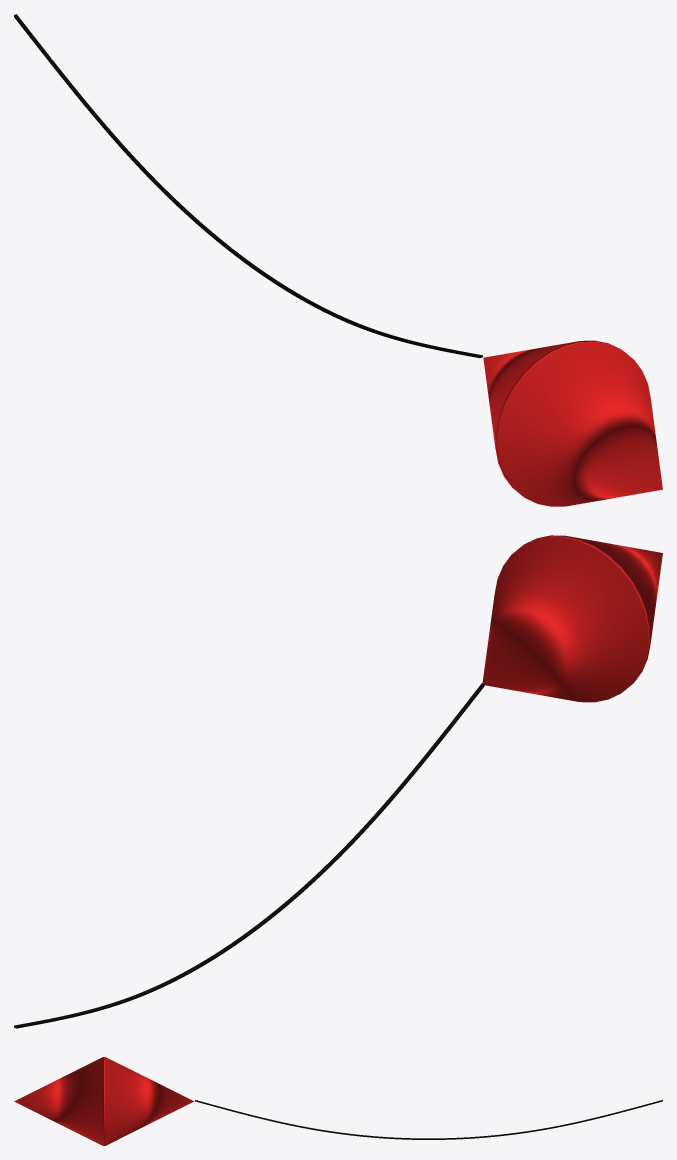
File: bova1.fbx
3 renders of one model, top to bottom at view 1: azimuth 30°, elevation 25°; view 2: azimuth 150°, elevation 25°; view 3: azimuth 270°, elevation 25°, orthographic. The views are drawn at different scales.
Parts seen in each view (by area): view 1: Cone.001; view 2: Cone.001; view 3: Cone.001.
Part boxes in pixels (left/top/right/bottom): Cone.001: left=14, top=14, right=662, bottom=506; Cone.001: left=14, top=535, right=662, bottom=1028; Cone.001: left=14, top=1057, right=662, bottom=1145.
Bounding box in the file's own units: 199 × 199 × 1460.
